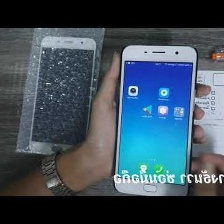phone: (111, 42, 201, 199), (25, 31, 98, 158)
